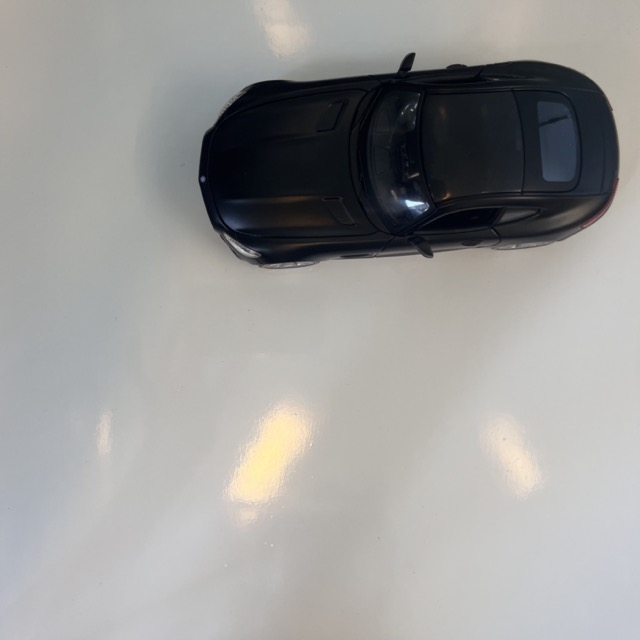car: (197, 51, 621, 271)
